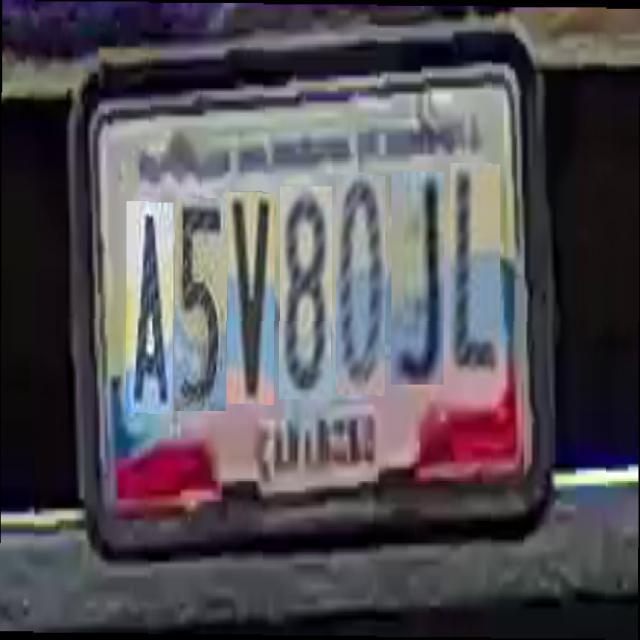5: (174, 196, 226, 410)
8: (279, 184, 331, 396)
A: (126, 201, 172, 413)
J: (391, 168, 444, 380)
L: (450, 158, 500, 373)
O: (336, 172, 384, 392)
V: (227, 191, 274, 402)
